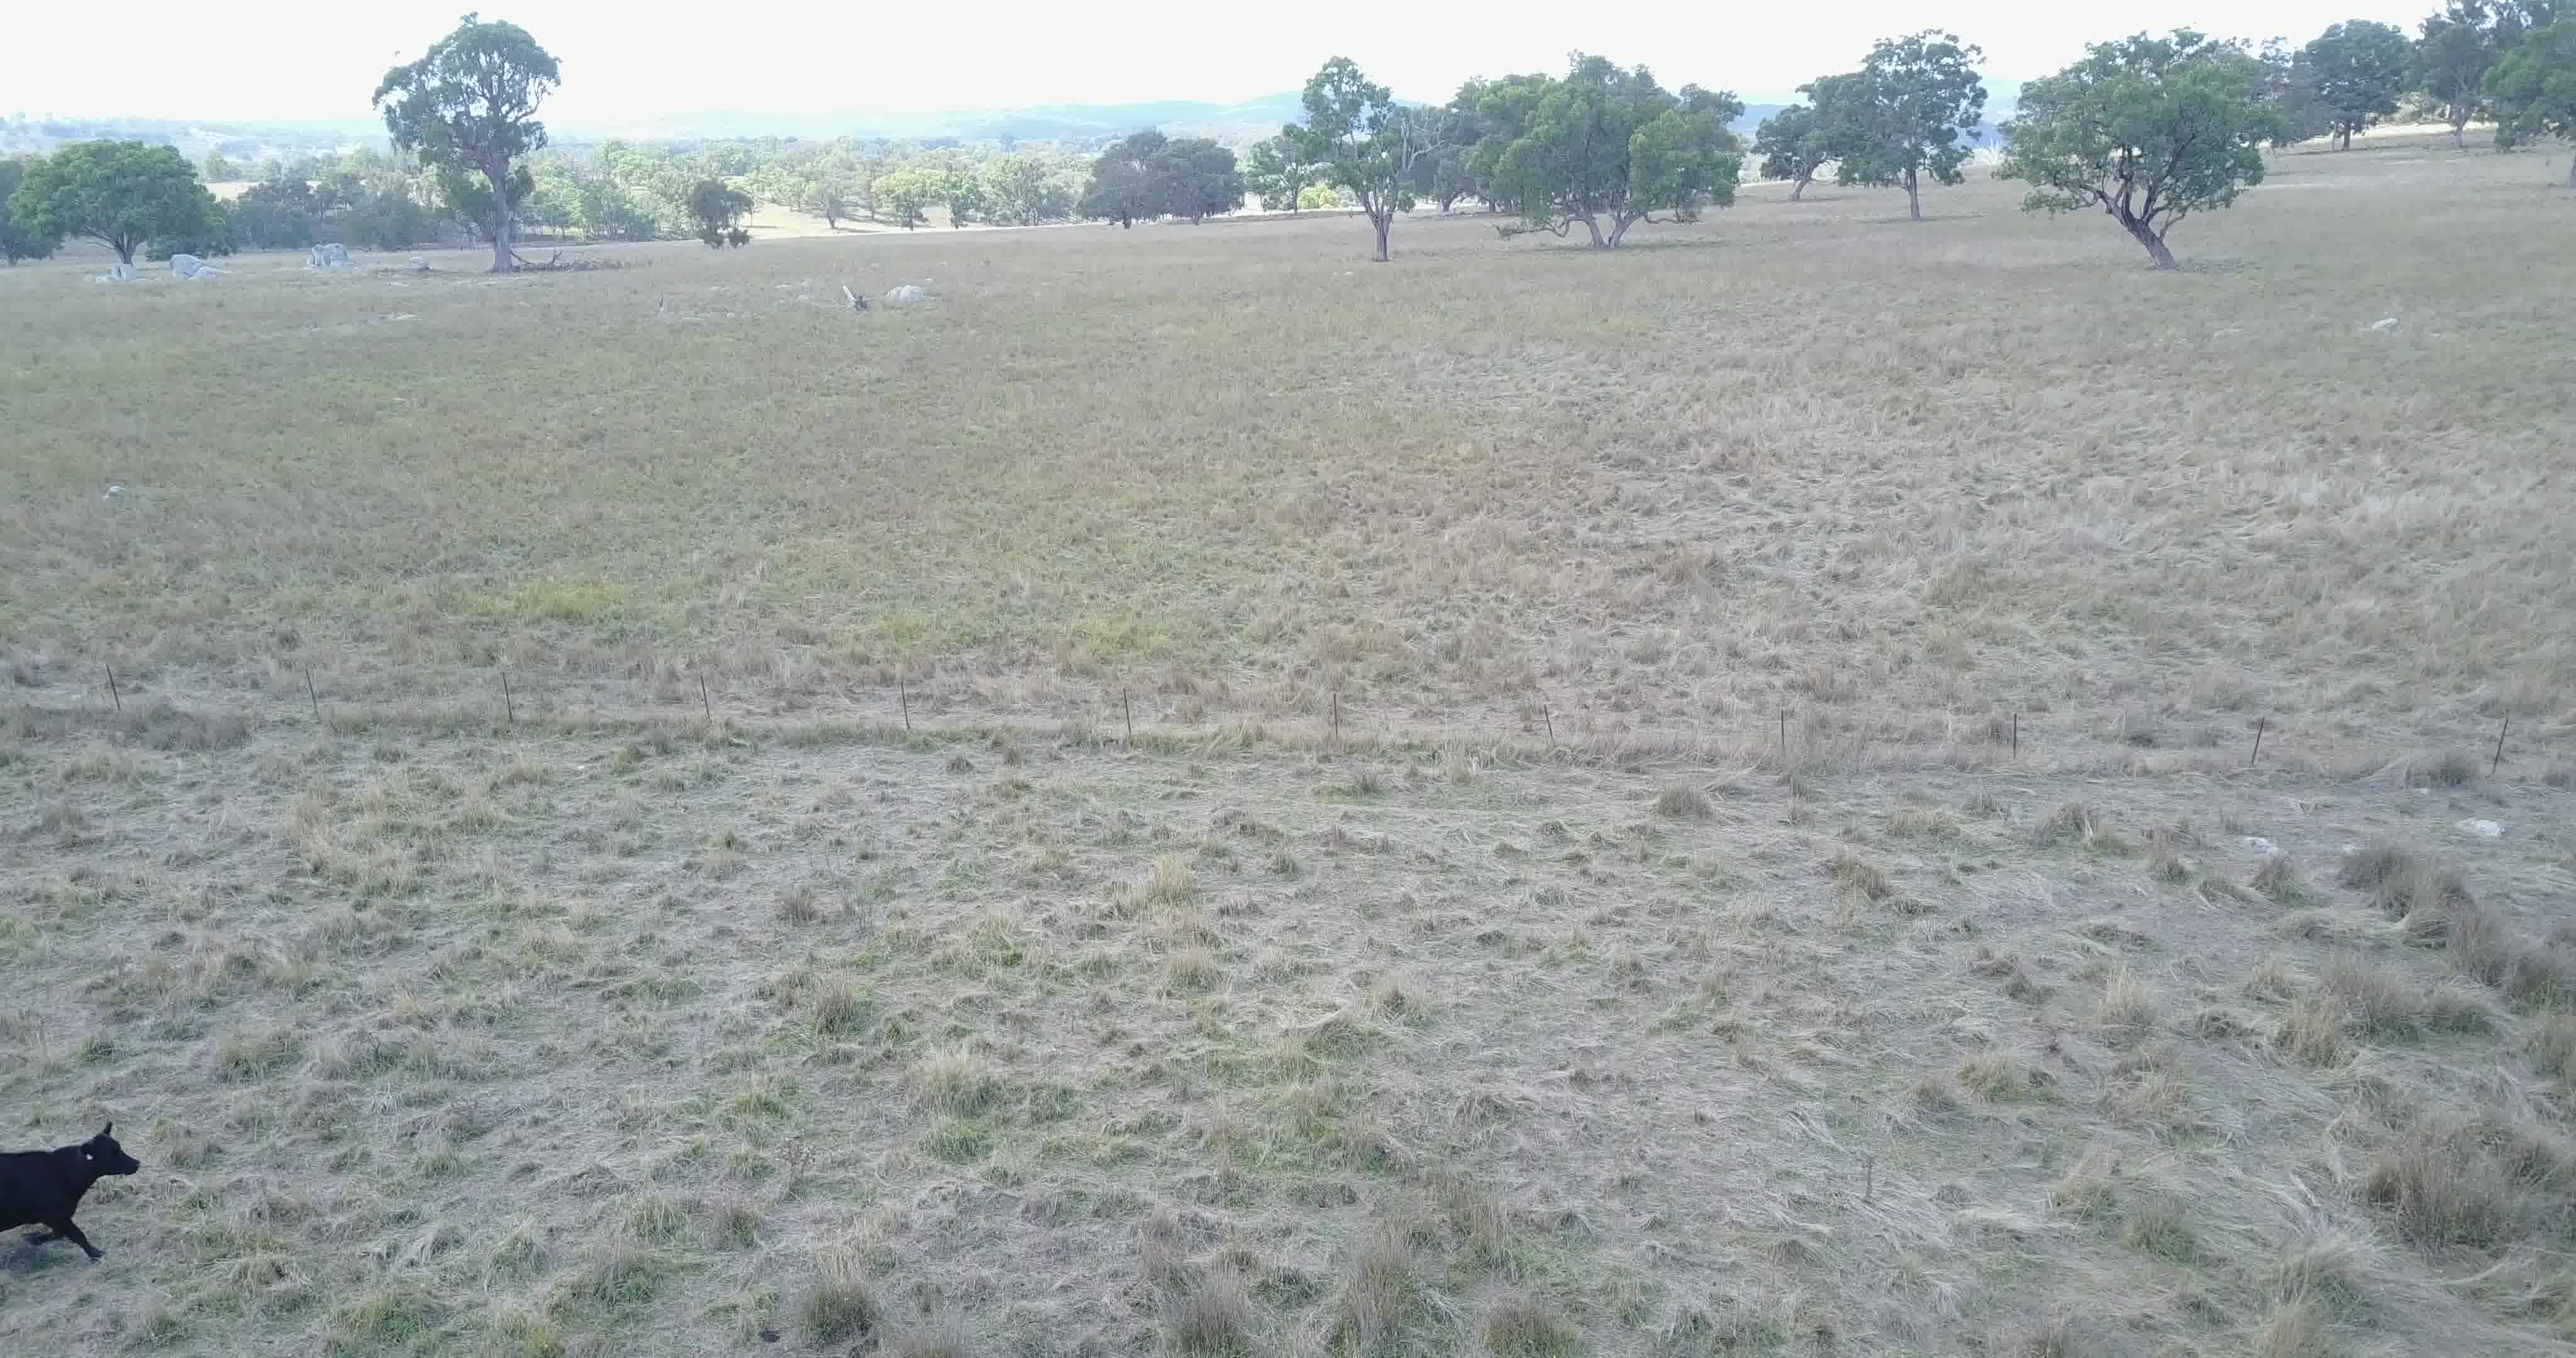cattle: (3, 1116, 150, 1268)
